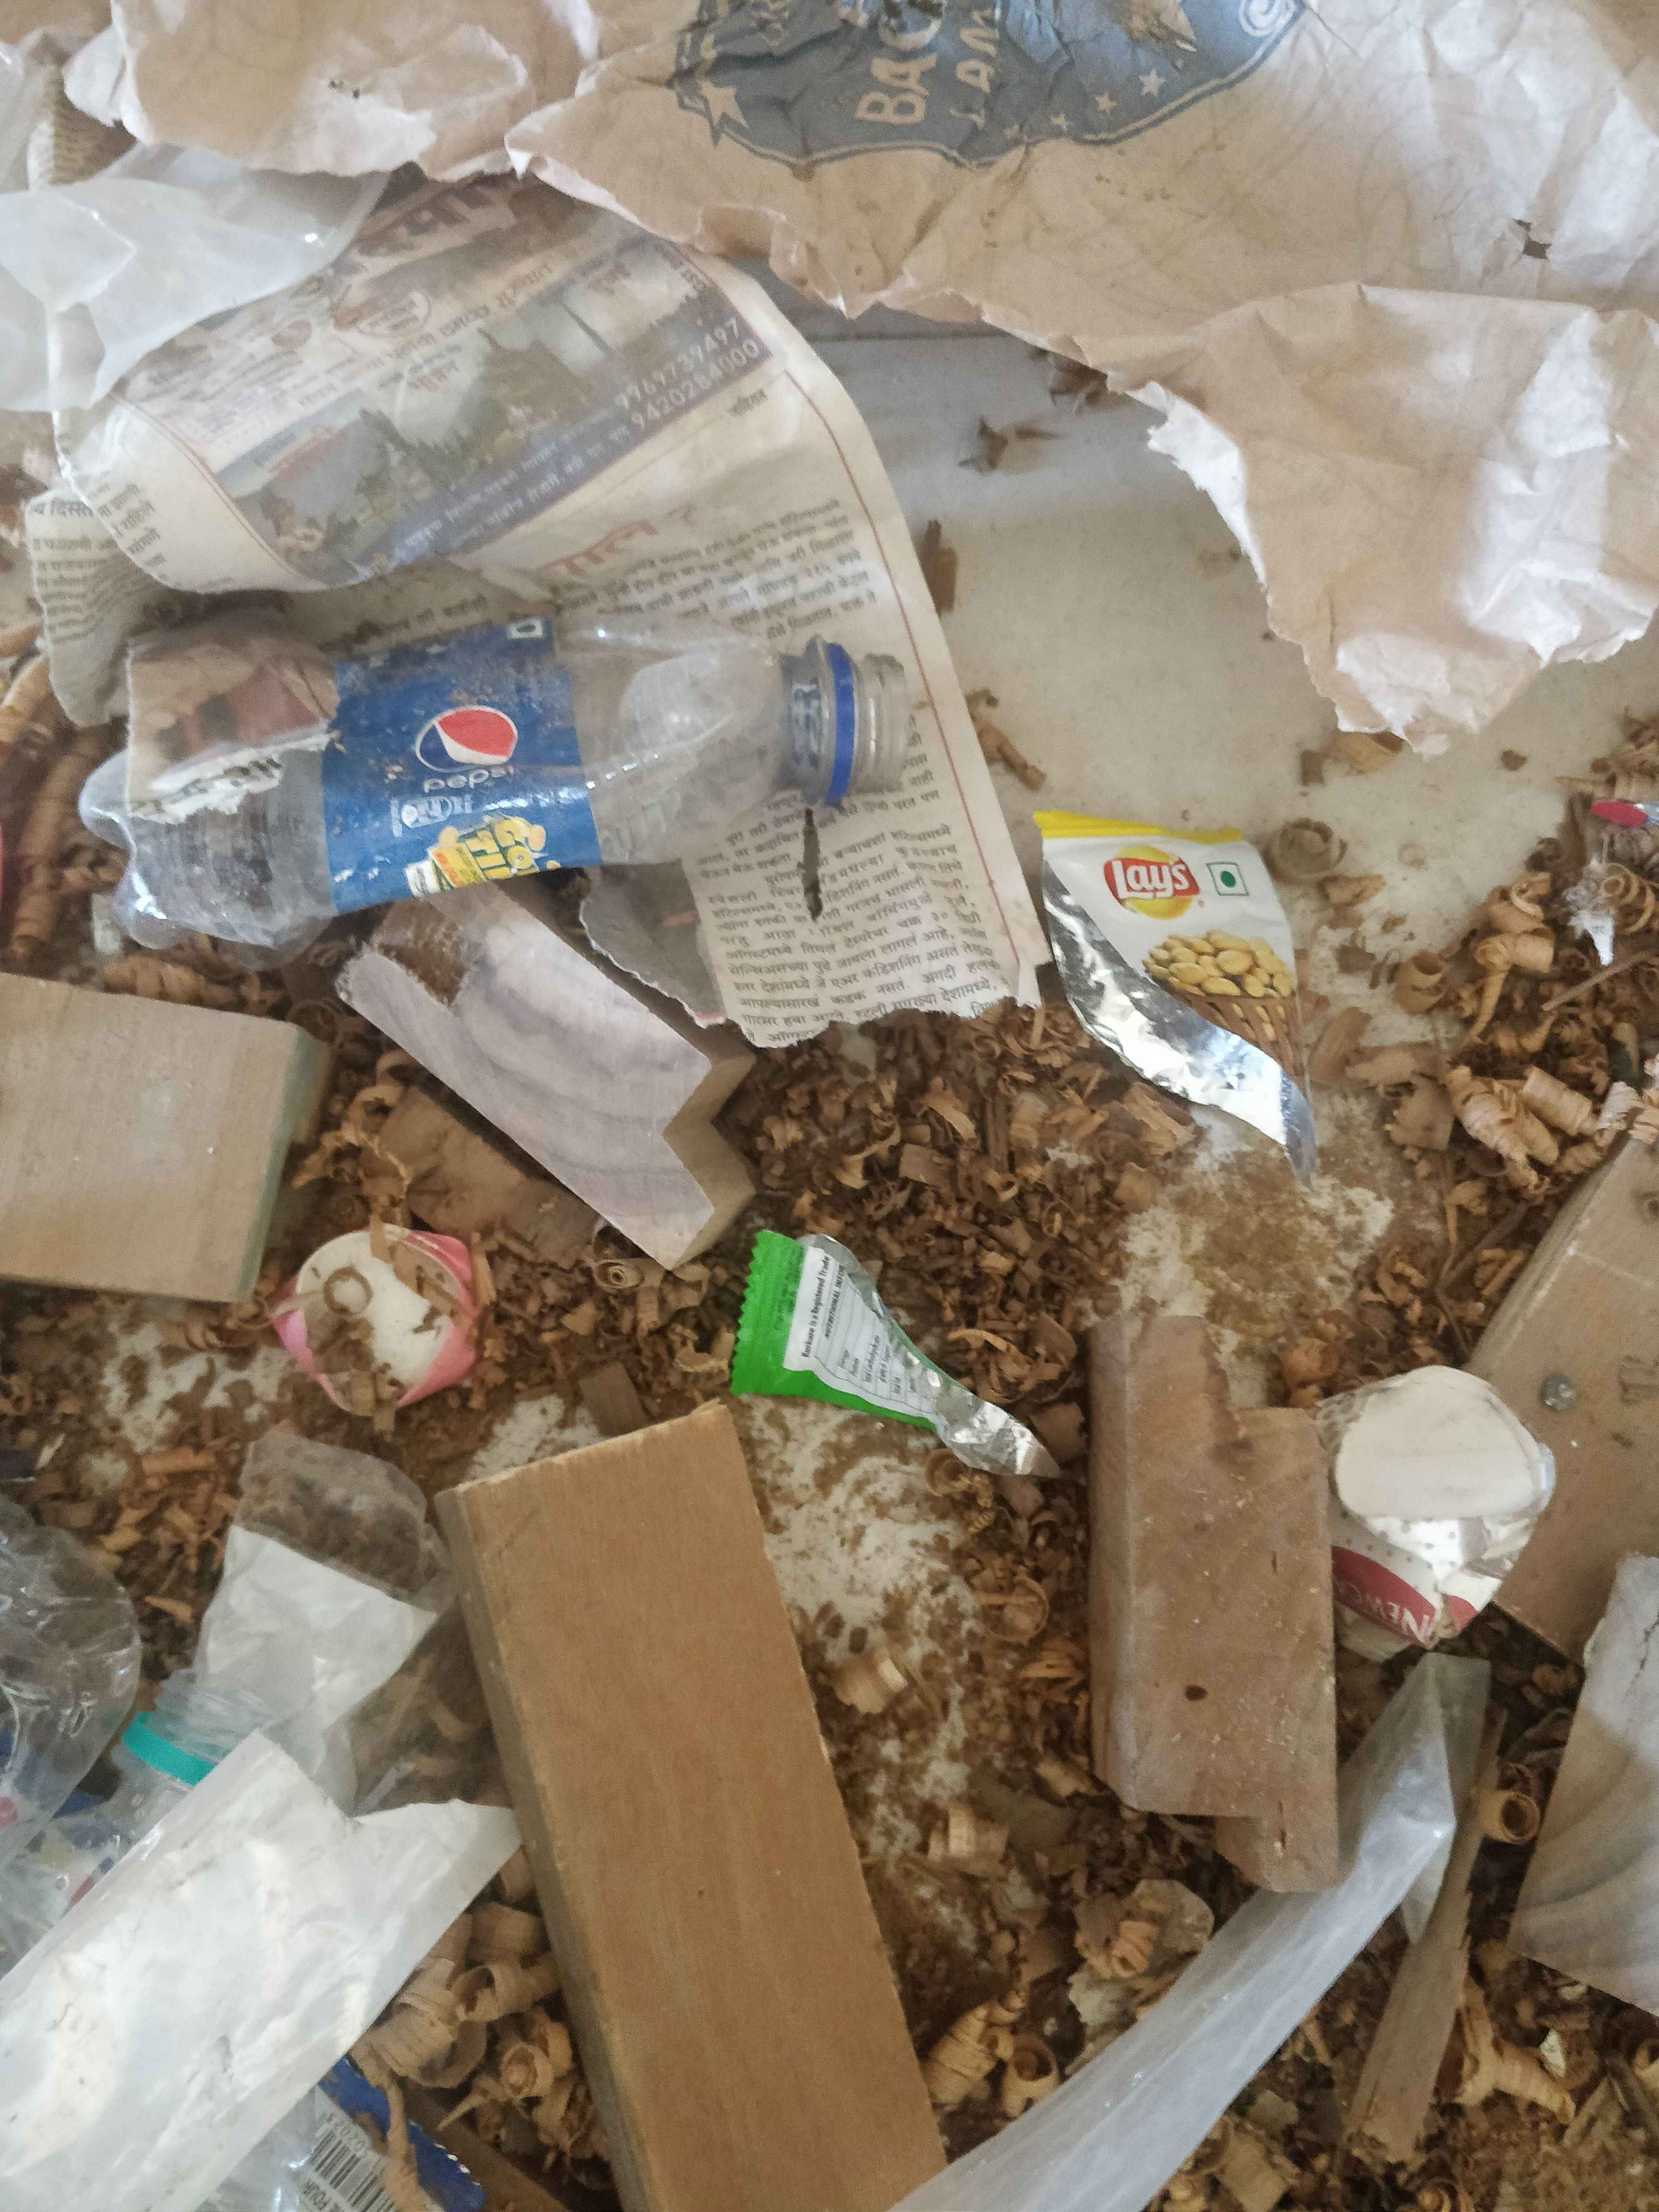Lays: (1073, 836, 1241, 921)
pepsi: (355, 651, 603, 864)
